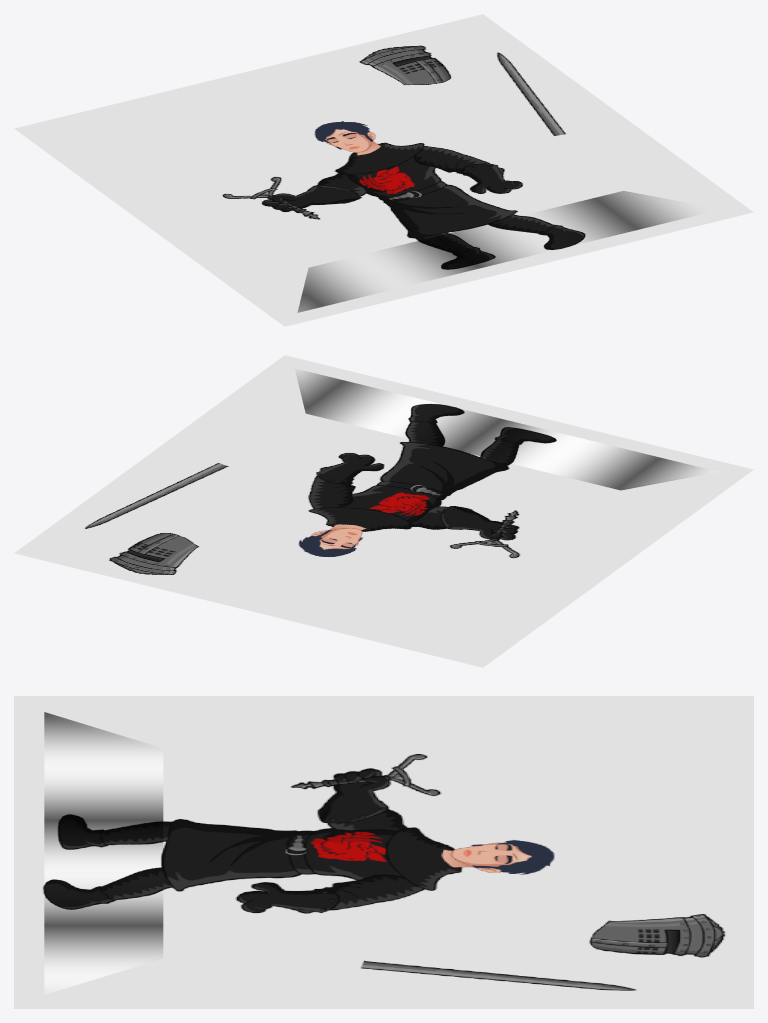
The model's file is Level 94 make zebra crossing for people to walk.fbx.
The picture shows the model from 3 angles, top to bottom: view 1: azimuth 30°, elevation 25°; view 2: azimuth 150°, elevation 25°; view 3: azimuth 270°, elevation 25°; orthographic projection. The views are drawn at different scales.
Visible parts, largest first — view 1: Mesh, Blend; view 2: Mesh, Blend; view 3: Mesh, Blend.
Part boxes in pixels (left/top/right/bottom): Mesh: left=14, top=14, right=753, bottom=326; Blend: left=297, top=191, right=721, bottom=312; Mesh: left=14, top=355, right=753, bottom=667; Blend: left=294, top=368, right=718, bottom=490; Mesh: left=14, top=696, right=753, bottom=1008; Blend: left=44, top=712, right=163, bottom=994.
Bounding box in the file's own units: 2400 × 1 × 2400.
